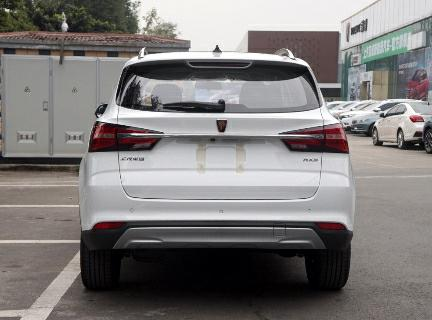荣威-RX3: (75, 47, 360, 297)
